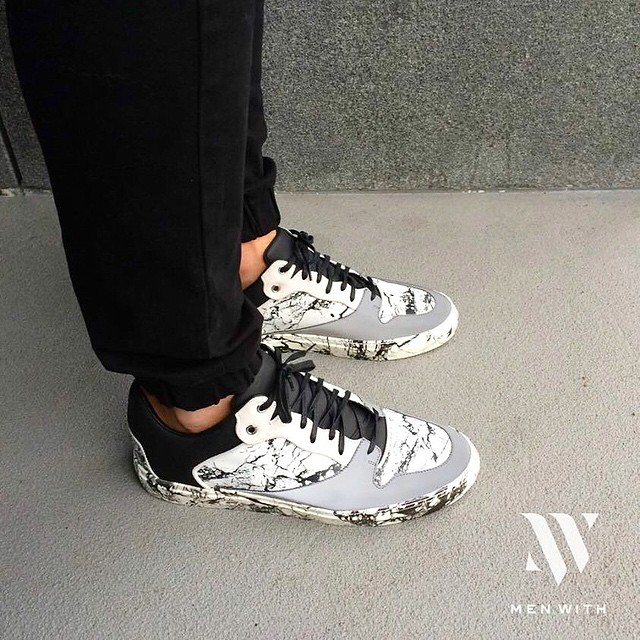sneaker: (95, 326, 502, 544), (205, 200, 479, 375)
